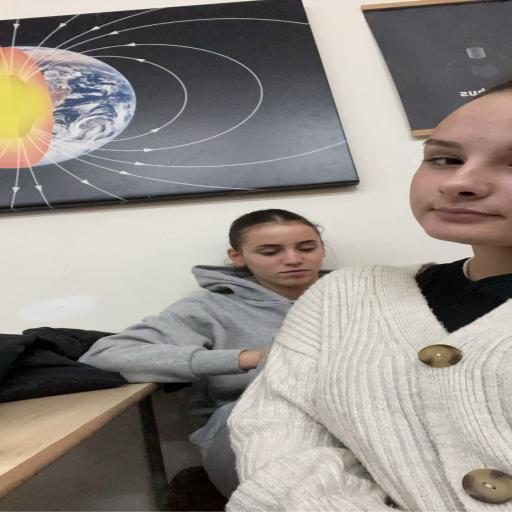marija: (408, 89, 512, 249)
masa: (243, 225, 334, 285)
